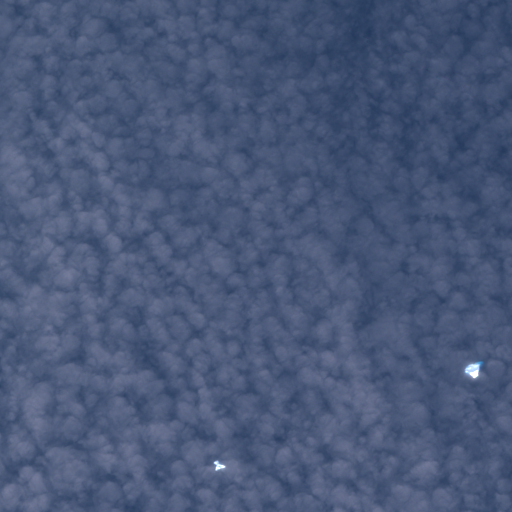Iceberg: (464, 363, 479, 377), (213, 460, 225, 470)
